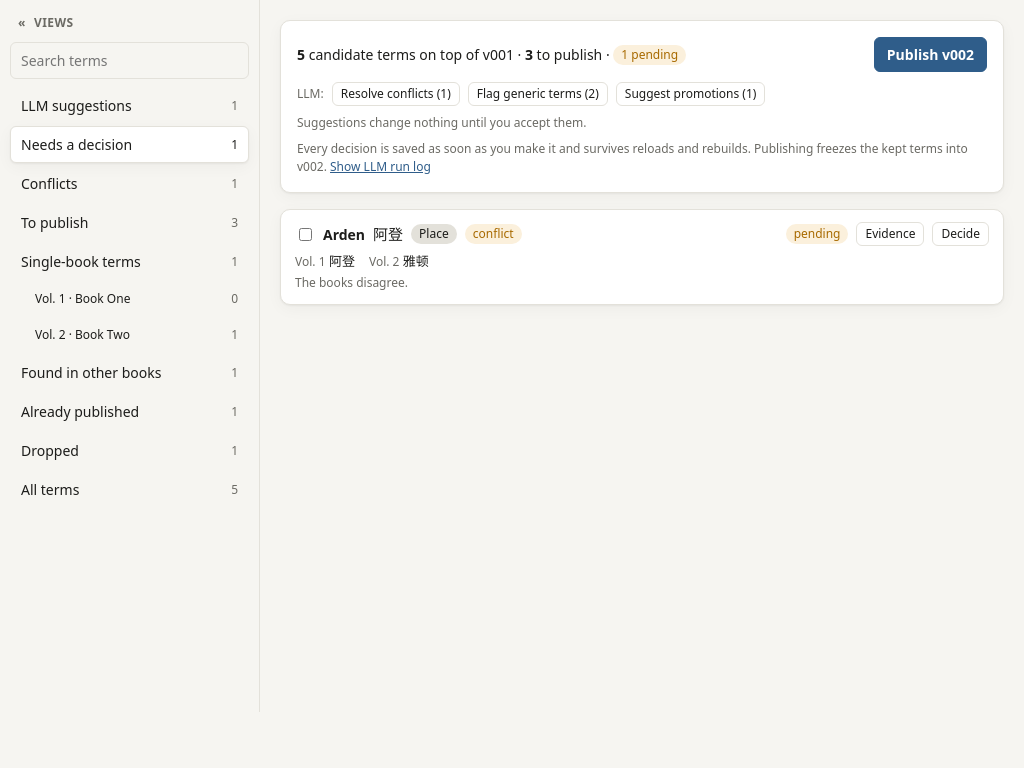
Scenario: Series workbench › views › explains the terms found in other books and flags how many books mention them
Check: the text "5 candidate terms on top of v001 · 3 to publish · 1 pending" is shown, box [297,44,686,65]
Click the button "Found in other books 1": (130, 372) [10,354,249,391]
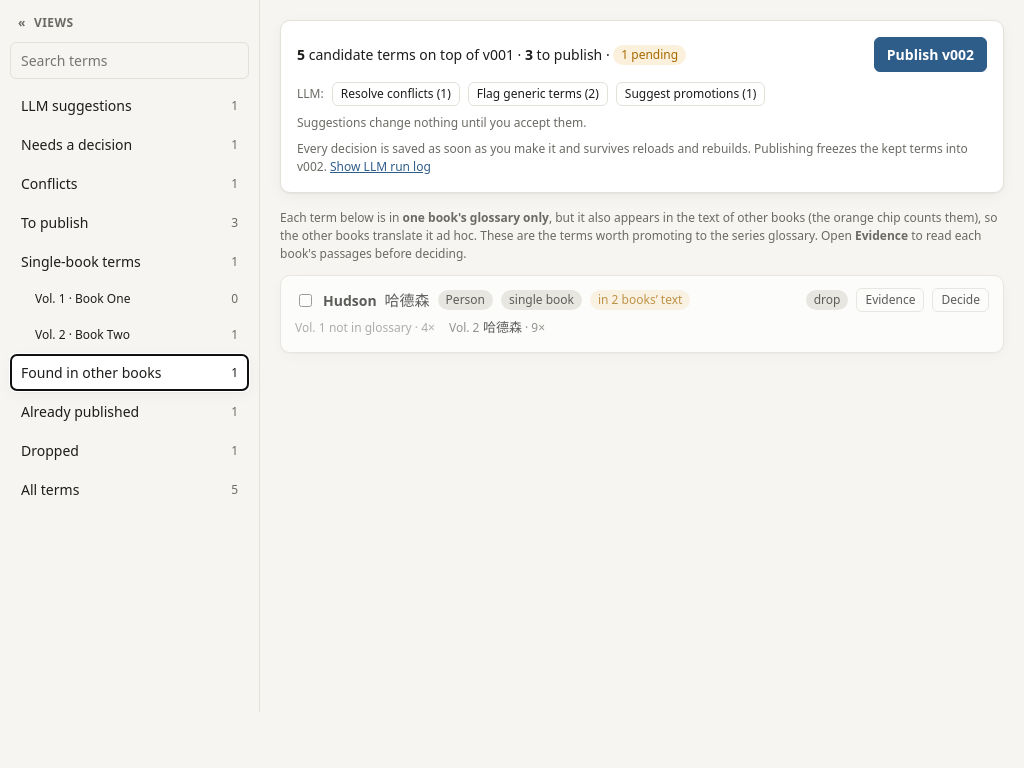
Check: the text "Each term below is in" shows "one book's glossary only", box [402,209,549,226]
Check: the text "in 2 books’ text" is shown, box [590,290,690,310]
